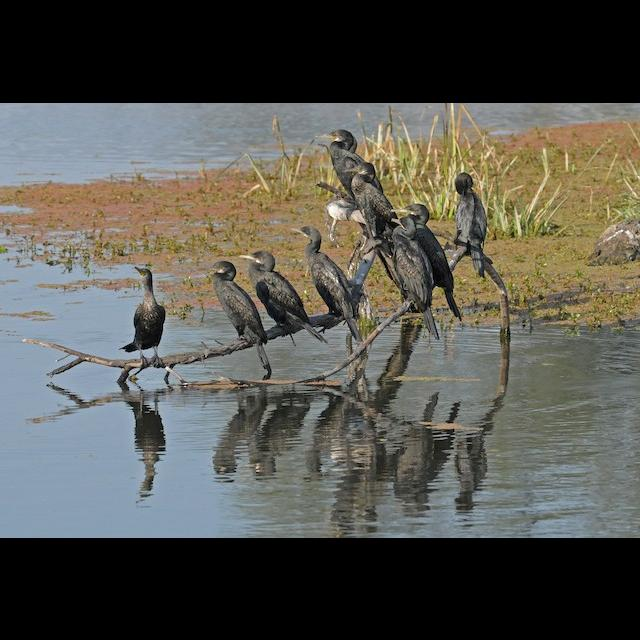cormorant: (288, 220, 360, 330), (449, 171, 498, 281), (384, 216, 440, 312), (202, 258, 254, 359), (126, 260, 178, 358), (312, 126, 362, 160)
